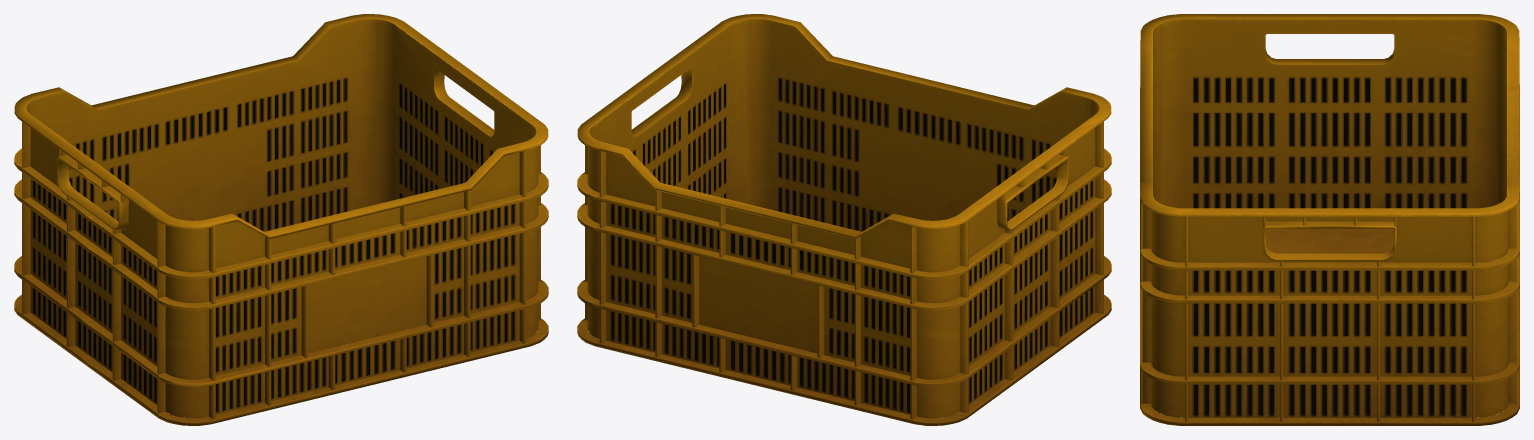
File: ph_plastic_crate.glb
3 renders of one model, left to right at view 1: azimuth 30°, elevation 25°; view 2: azimuth 150°, elevation 25°; view 3: azimuth 270°, elevation 25°, orthographic. The views are drawn at different scales.
Visible parts, largest first — view 1: plastic_crate_02; view 2: plastic_crate_02; view 3: plastic_crate_02.
Part boxes in pixels (x1,y1,x2,y2): plastic_crate_02: (14,14,548,425); plastic_crate_02: (577,14,1111,425); plastic_crate_02: (1140,14,1519,425).
Bounding box in the file's own units: 0.5055 × 0.2541 × 0.4055.
1 material, 1 textured.
